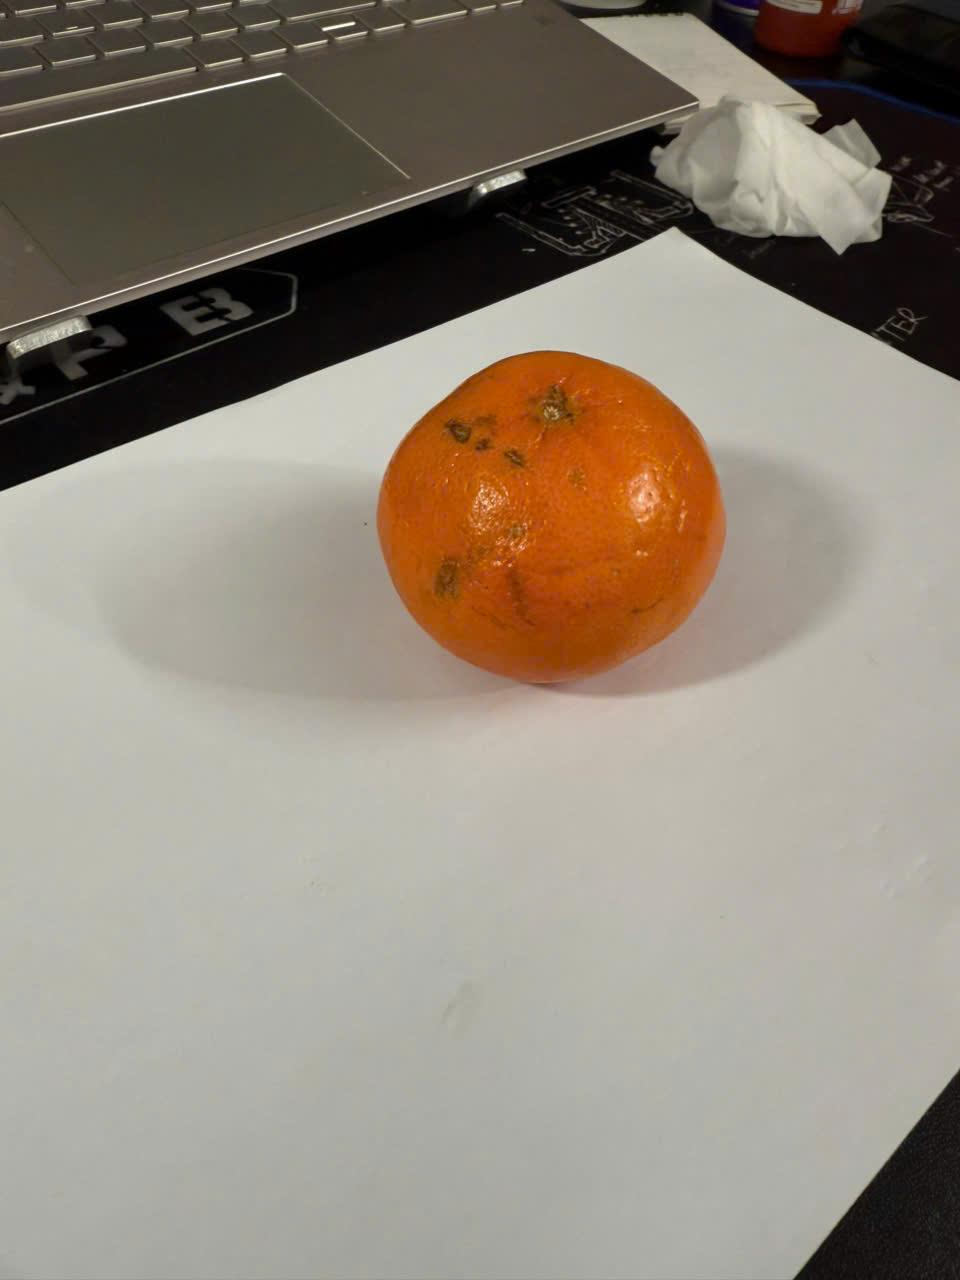orange: (375, 336, 745, 720)
